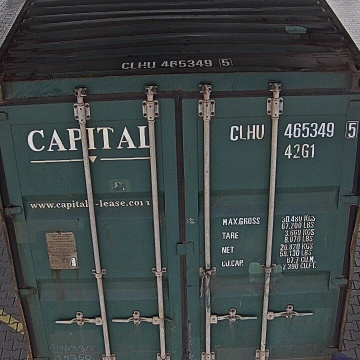serial_id: (230, 121, 357, 140)
